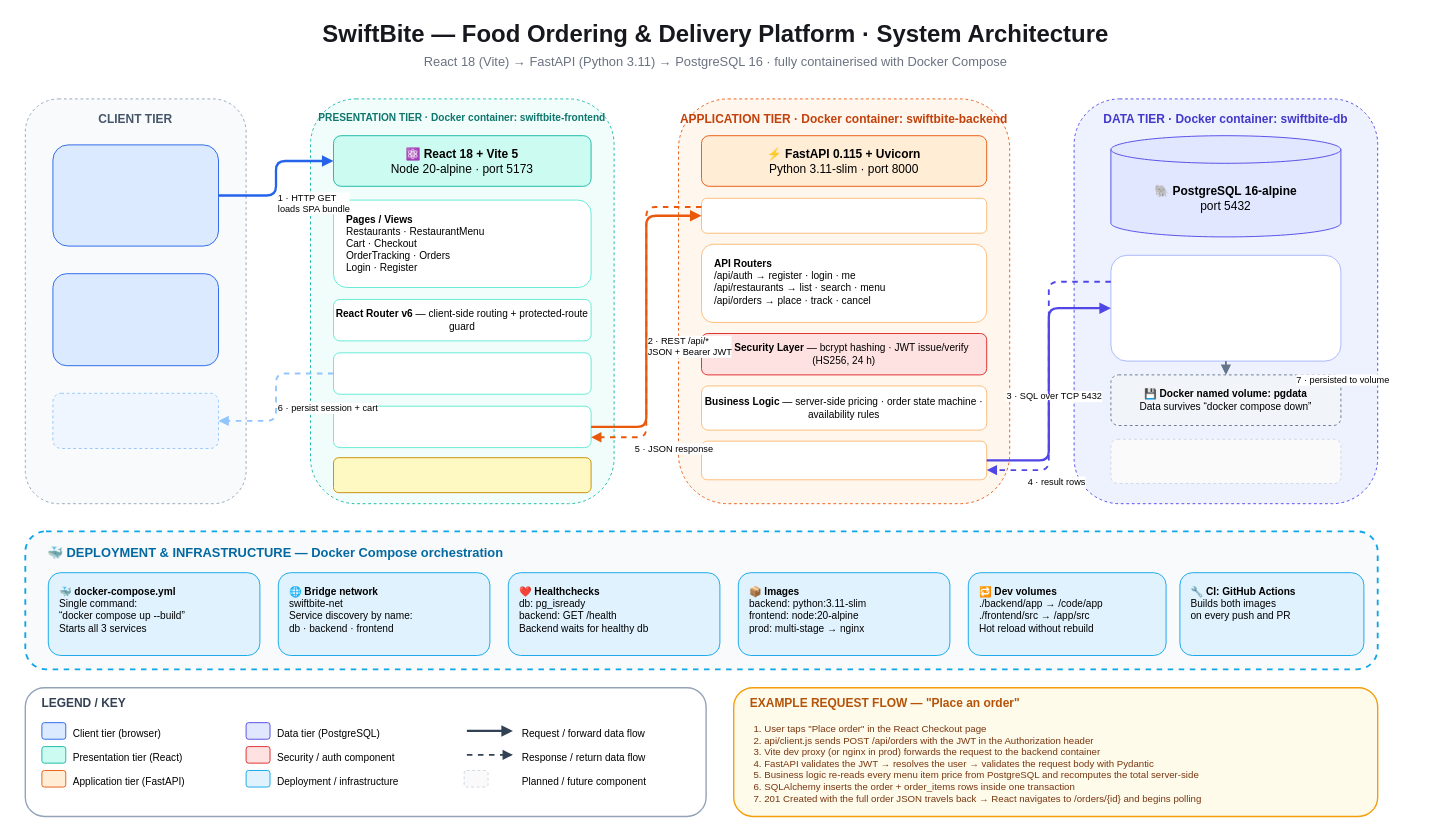
Some shapes in this 1430 by 833 pixel diagram are drawn without their labels. Here are the shapes that lost their labels. From the top down, the centre of each, then its label:
the point at 135,195: 🖥️ Web Browser Chrome / Edge / Firefox localhost:5173
the point at 844,215: Middleware — CORS · request validation
the point at 135,319: 📱 Mobile Browser Responsive layout (same SPA)
the point at 1225,307: Tables users restaurants menu_items orders order_items
the point at 462,373: Context Store — auth state + cart state
the point at 135,420: 💾 localStorage JWT · user profile · cart
the point at 462,426: api/client.js — fetch wrapper, injects Bearer token
the point at 462,475: 🔀 Vite dev proxy (dev) / nginx reverse proxy (prod) — forwards /api/*
the point at 844,460: SQLAlchemy 2.0 ORM + Pydantic schemas
the point at 1225,460: ⚡ Redis cache (planned — Review 3)
